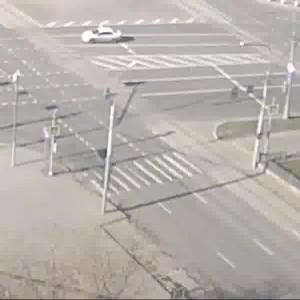car: (83, 24, 123, 47)
